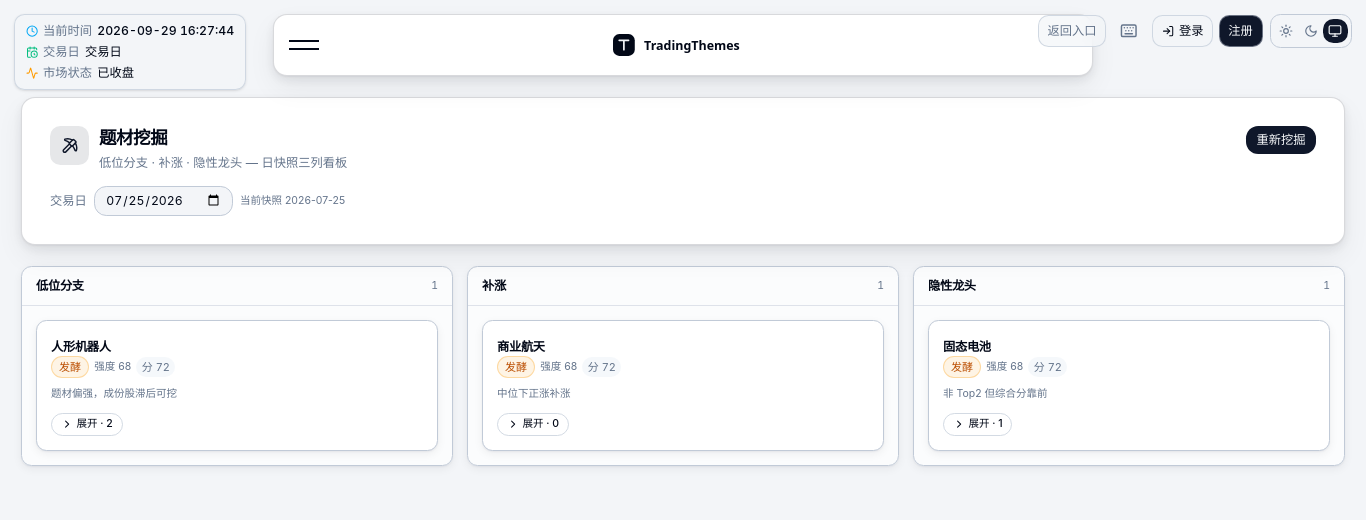
Test case: ThemeMiningBoard › expands card members on click
Expected: the link "人形机器人" is shown, [51,339,111,354]
Click the button "展开 · 2". click: (87, 424)
box: [51,413,122,436]
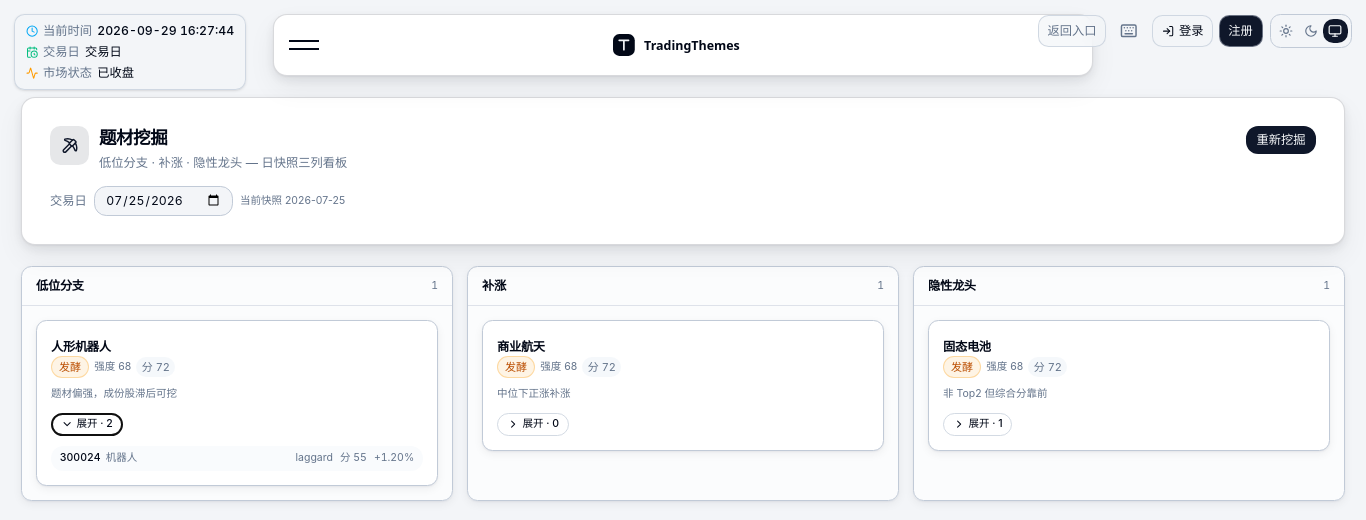
Result: the element with test id "mining-card-members-1" is shown at [51,446,423,471]
Result: the text "300024" is shown at [60,451,101,464]
Result: the text "机器人" is shown at [106,451,137,464]
